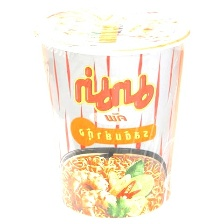paper_cup: (29, 0, 196, 223)
